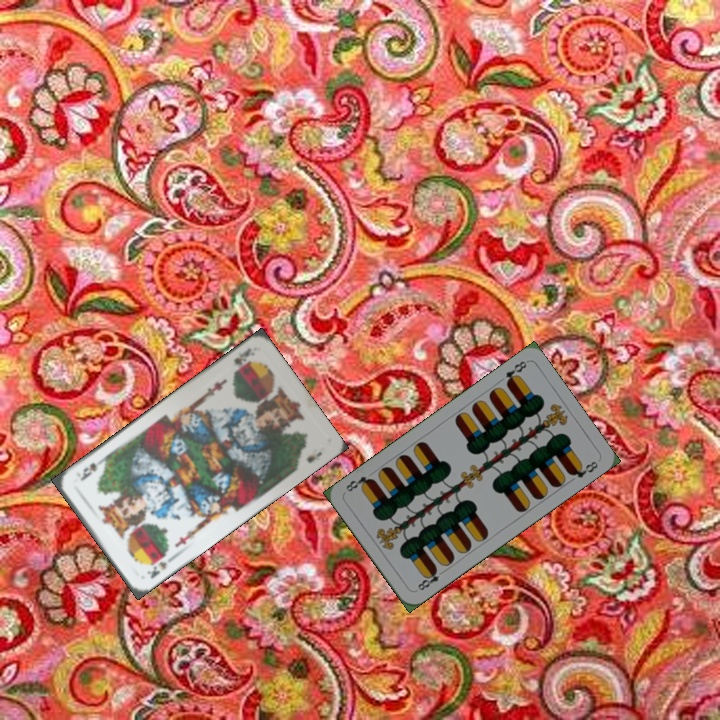E8: (412, 564, 447, 594), (502, 357, 529, 388)
SK: (143, 550, 176, 581), (229, 344, 258, 376)
